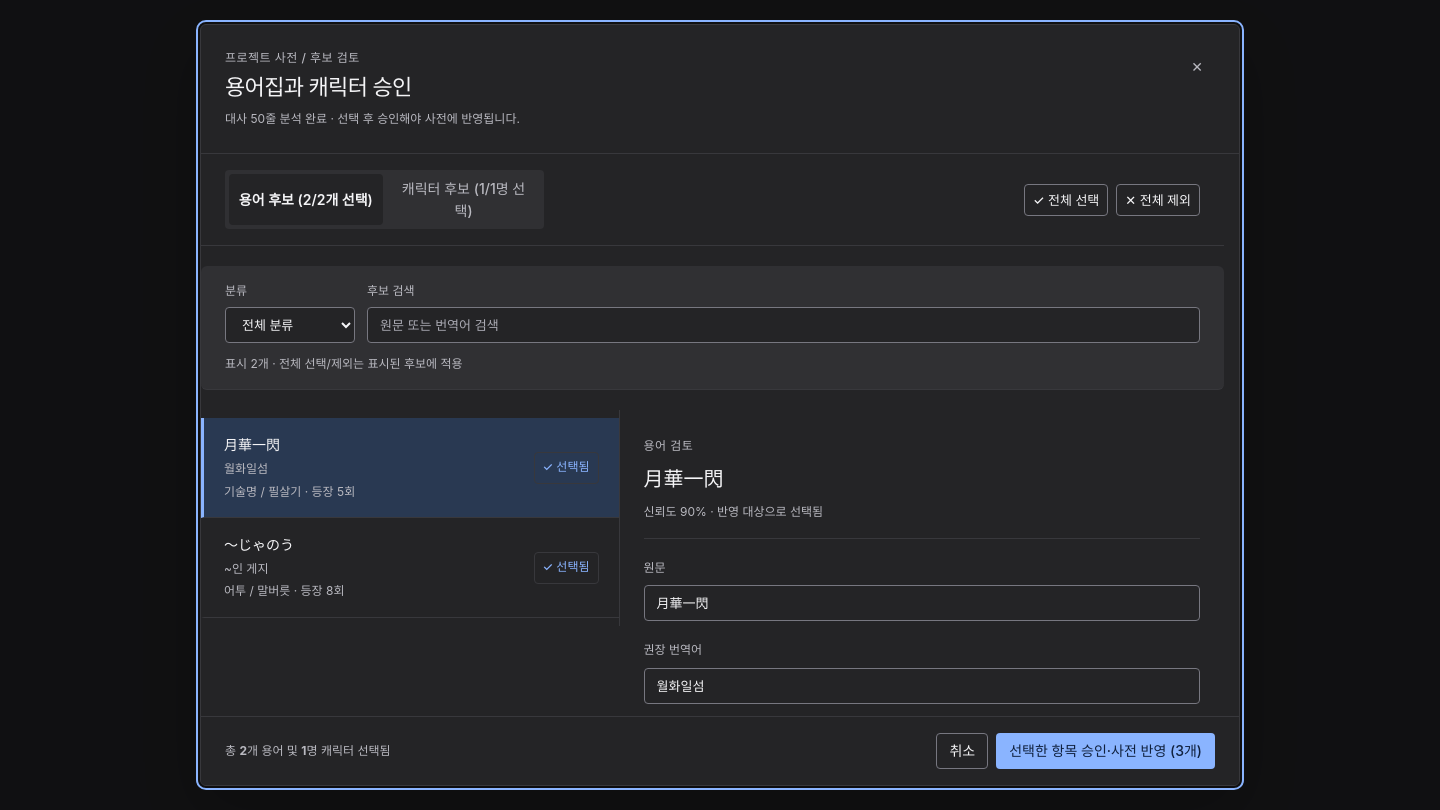
Test: GlossaryApprovalModal › switches tabs and toggles candidate approval status
The width and height of the screenshot is (1440, 810).
// Switch to character tab
Click the button "캐릭터 후보 (1/1명 선택)": point(464, 200) [387,174,540,225]
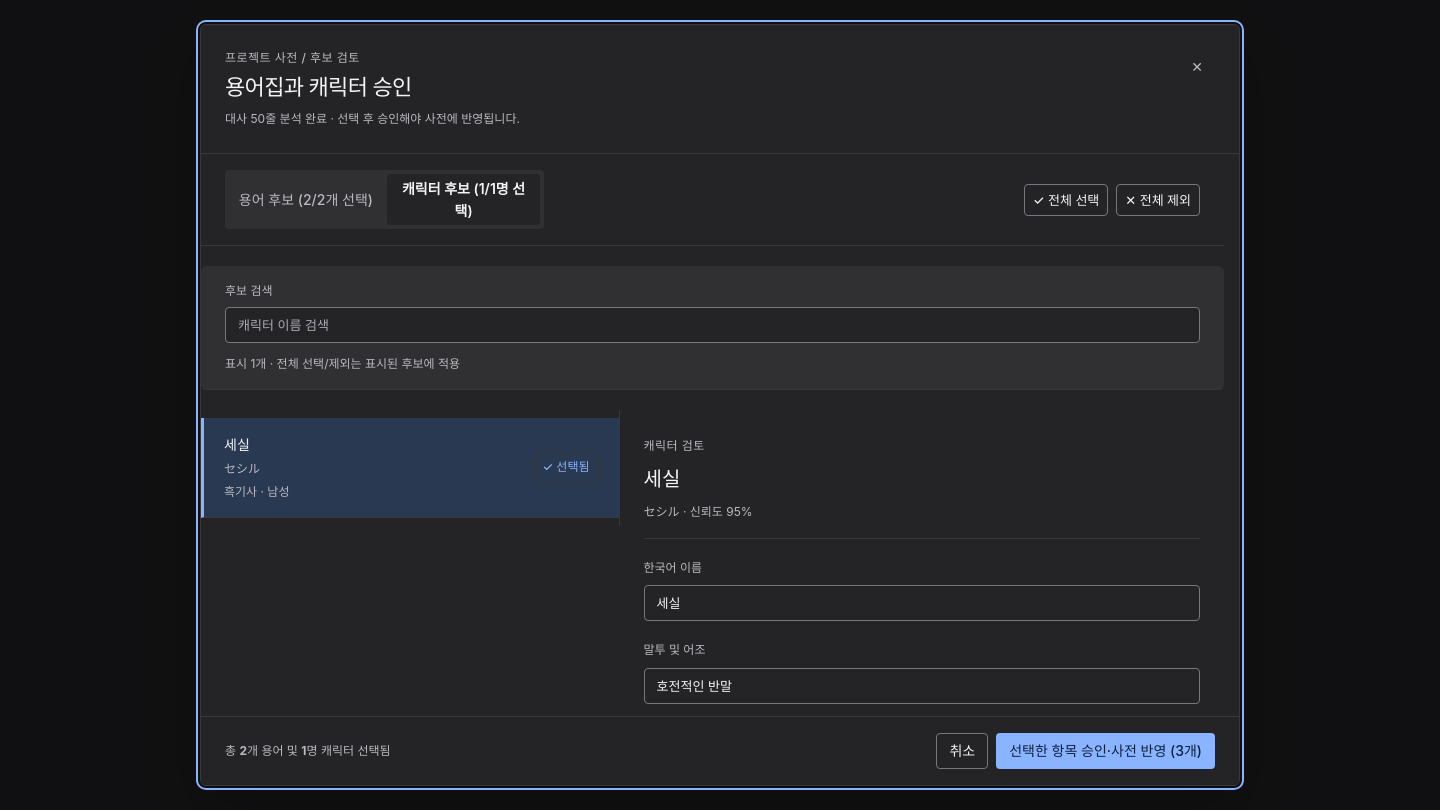
Result: the field showing "세실" is shown at [644,585,1200,621]
Result: the field showing "호전적인 반말" is shown at [644,668,1200,704]
